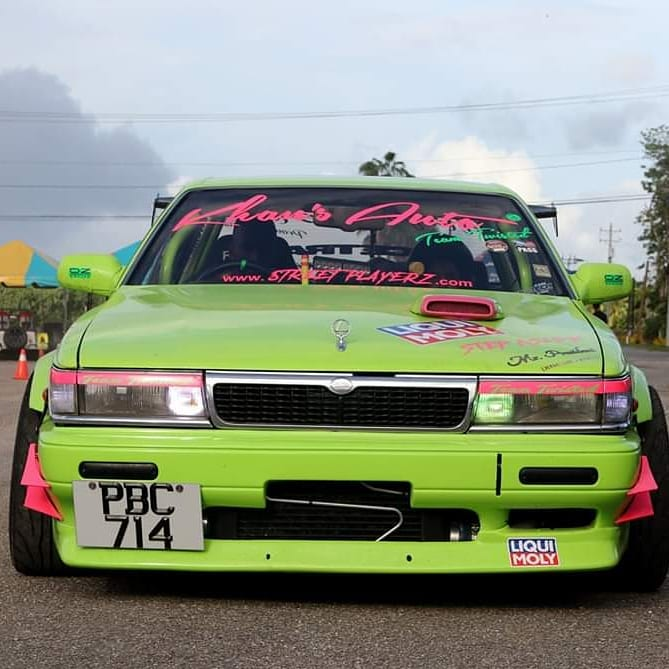License-Plate: (78, 479, 203, 546)
